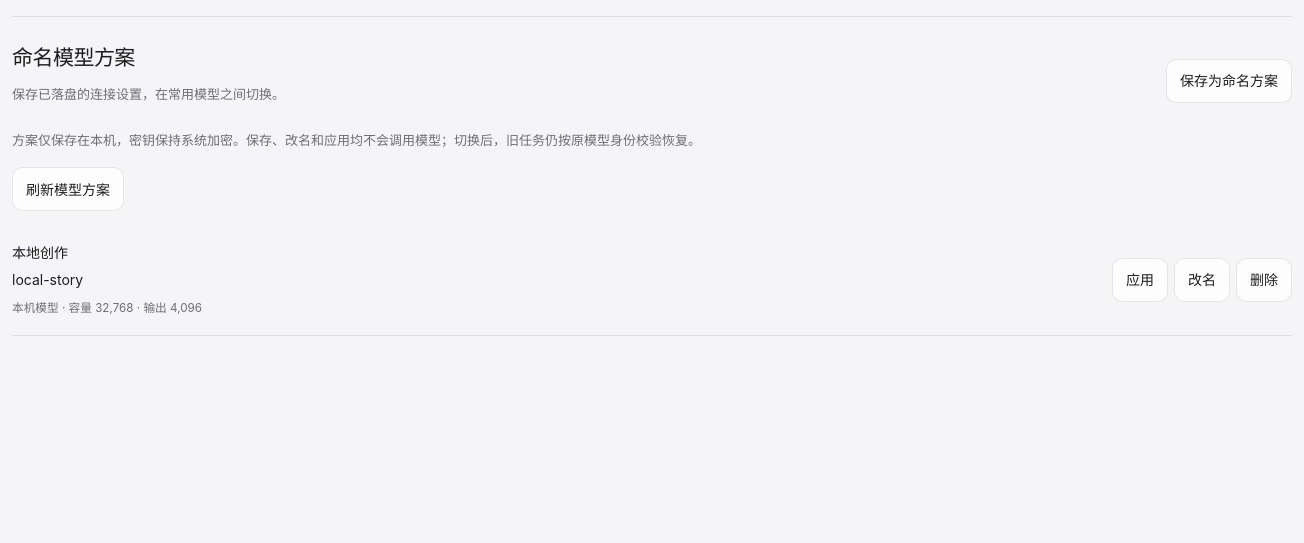
Test case: keeps configuration unchanged after an application conflict and shows diagnostics
Click the button with aria-label "应用方案 本地创作" at (1140, 280), box x1=1112 y1=258 x2=1168 y2=302
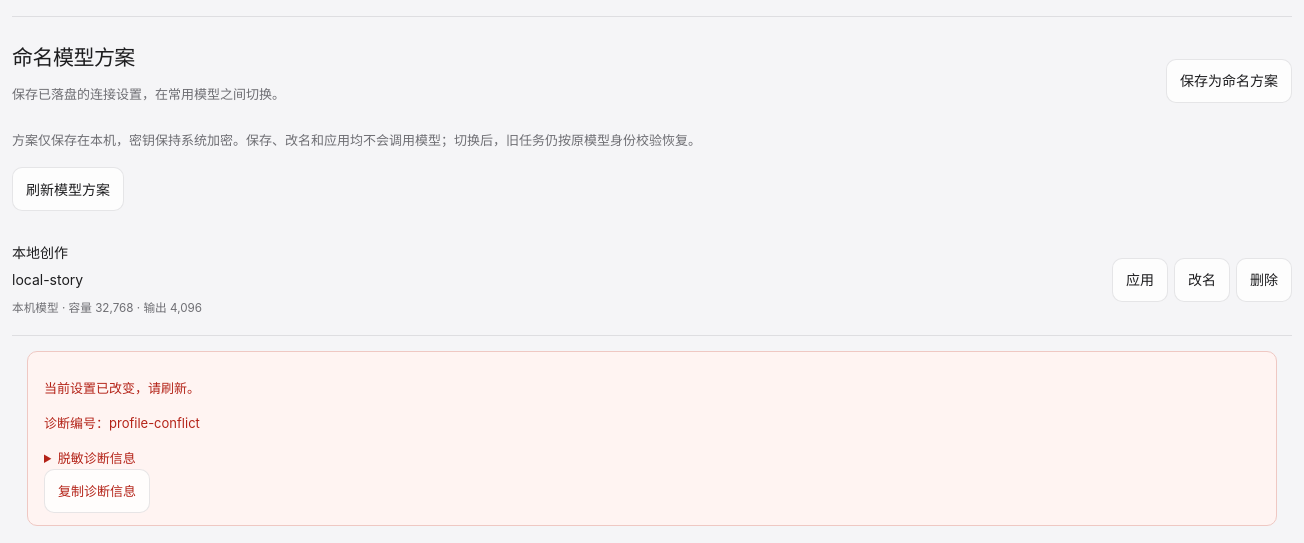
Expected: the text "当前设置已改变，请刷新。" is shown, x1=44 y1=380 x2=200 y2=396
Expected: the text "诊断编号：profile-conflict" is shown, x1=44 y1=415 x2=200 y2=431
